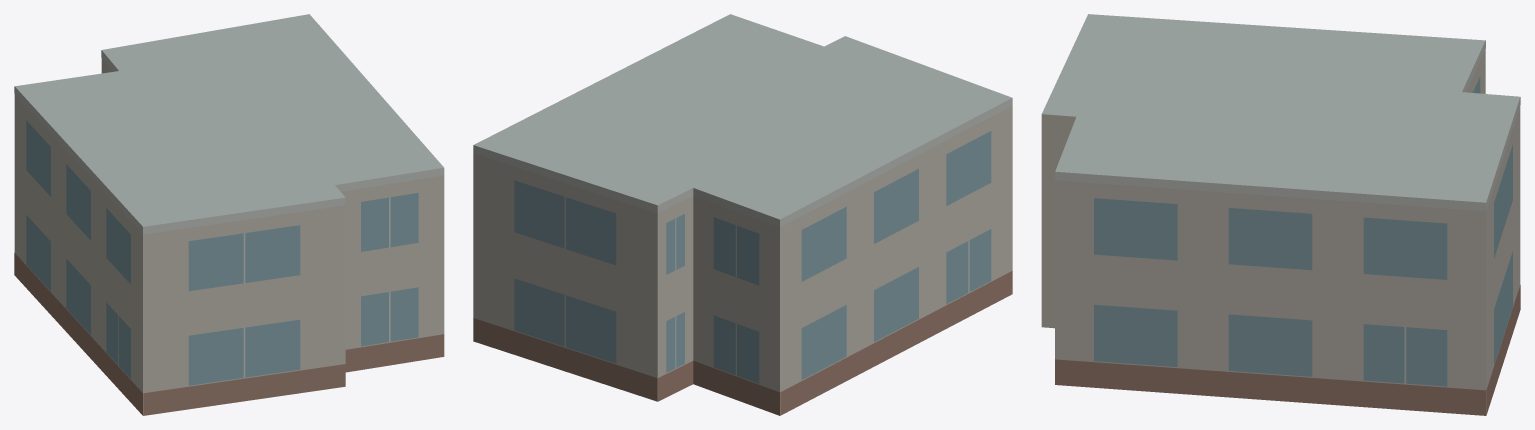
Rendered from survey-upis-32853092.glb.
3 views of the same model, side by side, from view 1: azimuth 30°, elevation 25°; view 2: azimuth 150°, elevation 25°; view 3: azimuth 270°, elevation 25° (orthographic). The views are drawn at different scales.
Parts seen in each view (by area): view 1: survey-upis-32853092.tmp; view 2: survey-upis-32853092.tmp; view 3: survey-upis-32853092.tmp.
Part boxes in pixels (x1,y1,x2,y2): survey-upis-32853092.tmp: (14,14,444,415); survey-upis-32853092.tmp: (473,14,1012,415); survey-upis-32853092.tmp: (1041,14,1520,415).
Bounding box in the file's own units: 11.59 × 6.1 × 12.43.
